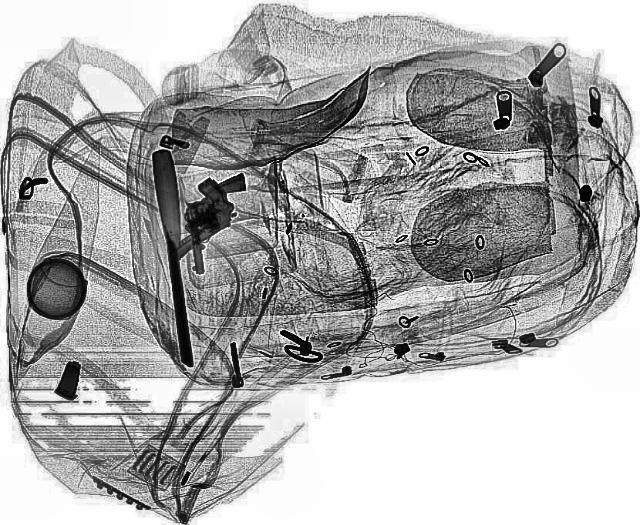Gun: (136, 174, 252, 260), (182, 172, 250, 274)
Knife: (148, 150, 200, 368)
